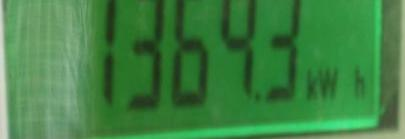.: (304, 62, 368, 101)
0: (254, 92, 262, 105)
2: (100, 0, 119, 111)
4: (130, 0, 167, 112), (266, 0, 304, 102)
5: (220, 1, 258, 96)
7: (170, 0, 215, 106)
